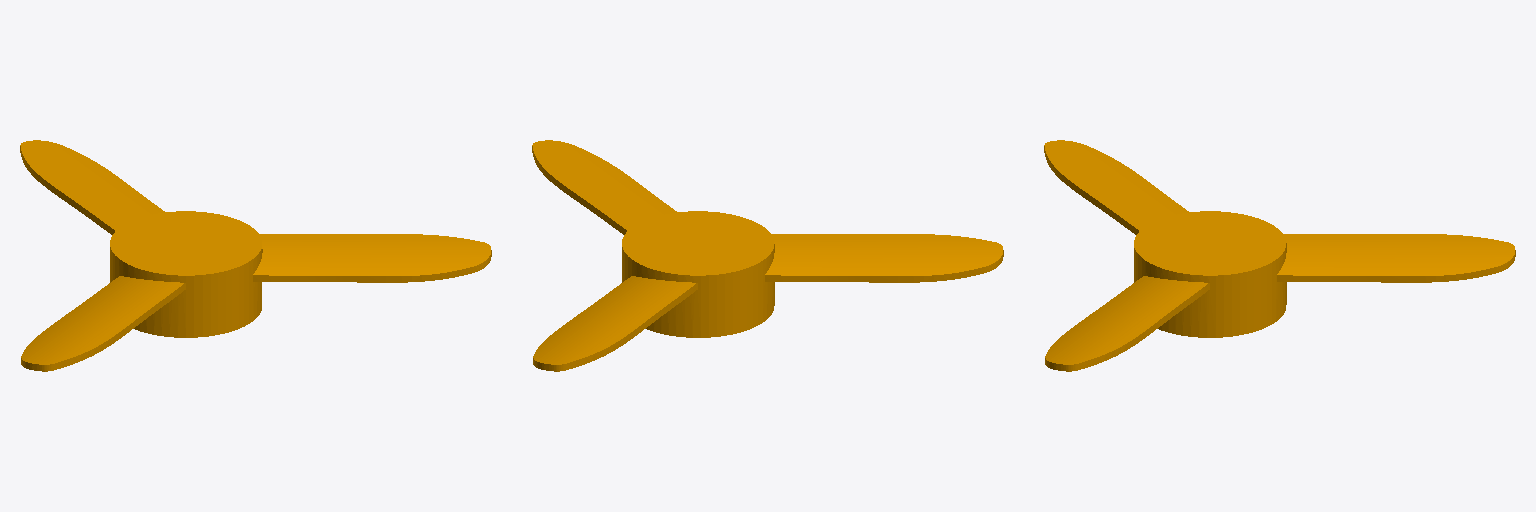
The robot description file, URDF, robot "propellor_l":
<?xml version="1.0" ?>
<robot name="propellor_l">

<link name="propellor_l_base_link">
  <inertial>
    <origin xyz="9.220263446538669e-09 7.933734898771011e-09 0.00254716240775177" rpy="0 0 0"/>
    <mass value="0.003577754431065361"/>
    <inertia ixx="0.0" iyy="0.0" izz="0.0" ixy="0.0" iyz="0.0" ixz="0.0"/>
  </inertial>
  <visual>
    <origin xyz="0 0 0" rpy="0 0 0"/>
    <geometry>
      <mesh filename="meshes/propellor_l_base_link.stl" scale="0.001 0.001 0.001"/>
    </geometry>
    <material name="silver"/>
  </visual>
  <collision>
    <origin xyz="0 0 0" rpy="0 0 0"/>
    <geometry>
      <mesh filename="meshes/propellor_l_base_link.stl" scale="0.001 0.001 0.001"/>
    </geometry>
  </collision>
</link>

<link name="propellor_l_AP_1">
  <inertial>
    <origin xyz="0.0 0.0 0.0" rpy="0 0 0"/>
    <mass value="4.110250388446646e-06"/>
    <inertia ixx="0.0" iyy="0.0" izz="0.0" ixy="0.0" iyz="0.0" ixz="0.0"/>
  </inertial>
  
  
</link>

<joint name="Rigid 1" type="fixed">
  <origin xyz="0.0 0.0 0.0" rpy="0 0 0"/>
  <parent link="propellor_l_base_link"/>
  <child link="propellor_l_AP_1"/>
</joint>

</robot>

--- Render facts (derived) ---
Views: 3 orthographic renders of the robot side by side, from view 1: azimuth 30°, elevation 25°; view 2: azimuth 150°, elevation 25°; view 3: azimuth 270°, elevation 25°.
Model propellor_l with 2 links and 1 joints (1 fixed), rooted at propellor_l_base_link, posed every joint at zero.
Links seen in each view (by area): view 1: propellor_l_base_link; view 2: propellor_l_base_link; view 3: propellor_l_base_link.
Boxes of the visible links, <box> form: propellor_l_base_link: <box>20,140,491,371</box>; propellor_l_base_link: <box>532,140,1003,371</box>; propellor_l_base_link: <box>1044,140,1515,371</box>.
Bounding box of the posed robot: 0.0352 × 0.0309 × 0.0045 m (x, y, z).
1 mesh visuals loaded from 1 distinct referenced files (1 binary STL).